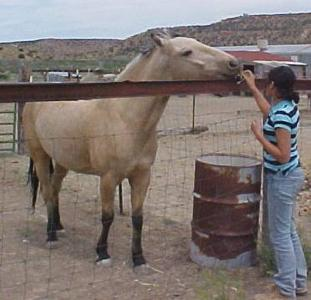person: (239, 65, 311, 297)
